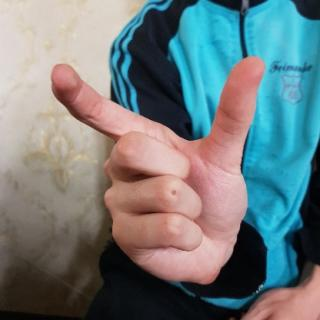NOON: (41, 55, 269, 295)
